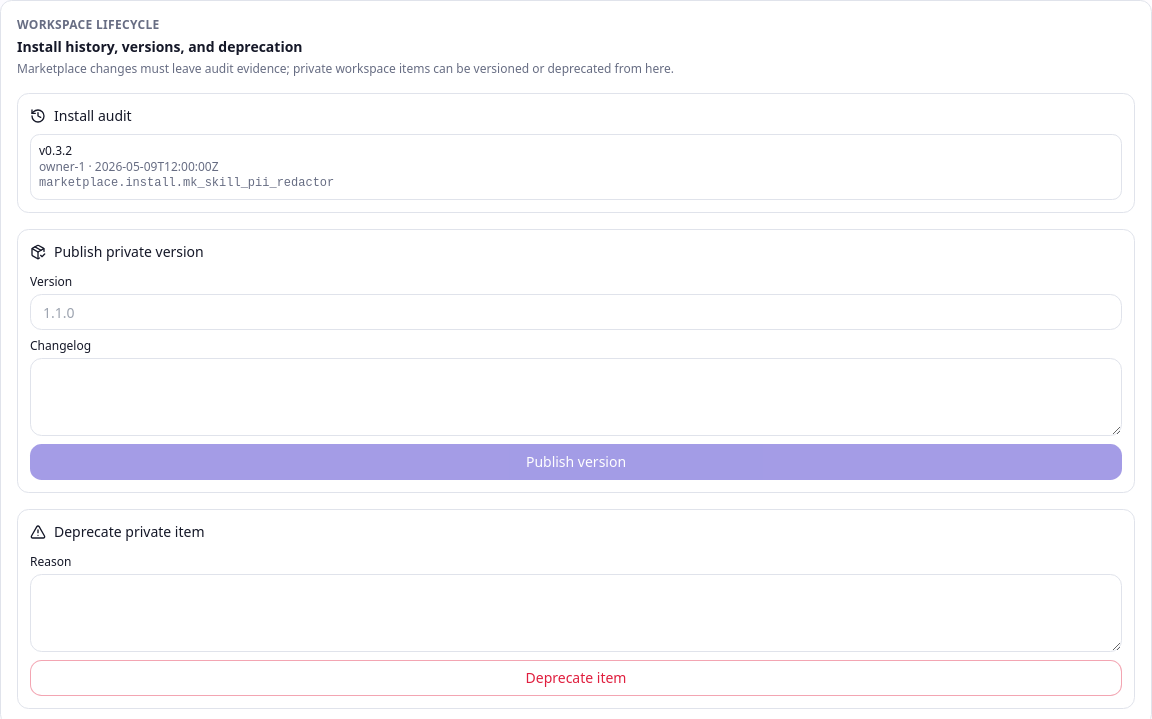
Test case: MarketplaceOperations › loads install audit history and publishes private versions
The width and height of the screenshot is (1152, 719).
Expected: the list with test id "marketplace-installs" shows "marketplace.install.mk_skill_pii_redactor", [39, 176, 334, 190]
Type "0.4.0" into the field with test id "marketplace-version-input" at (576, 312), box [30, 294, 1122, 330]
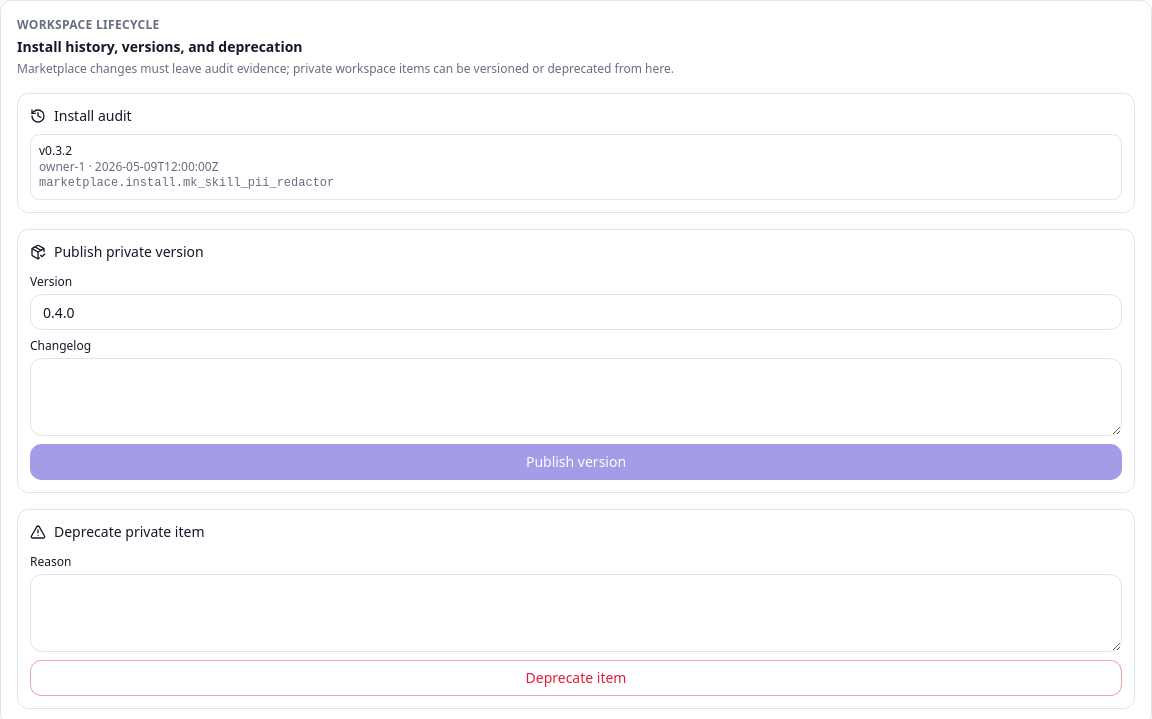
Type "Adds passport redaction coverage." into the text box with test id "marketplace-version-changelog" at (576, 397), box [30, 358, 1122, 436]
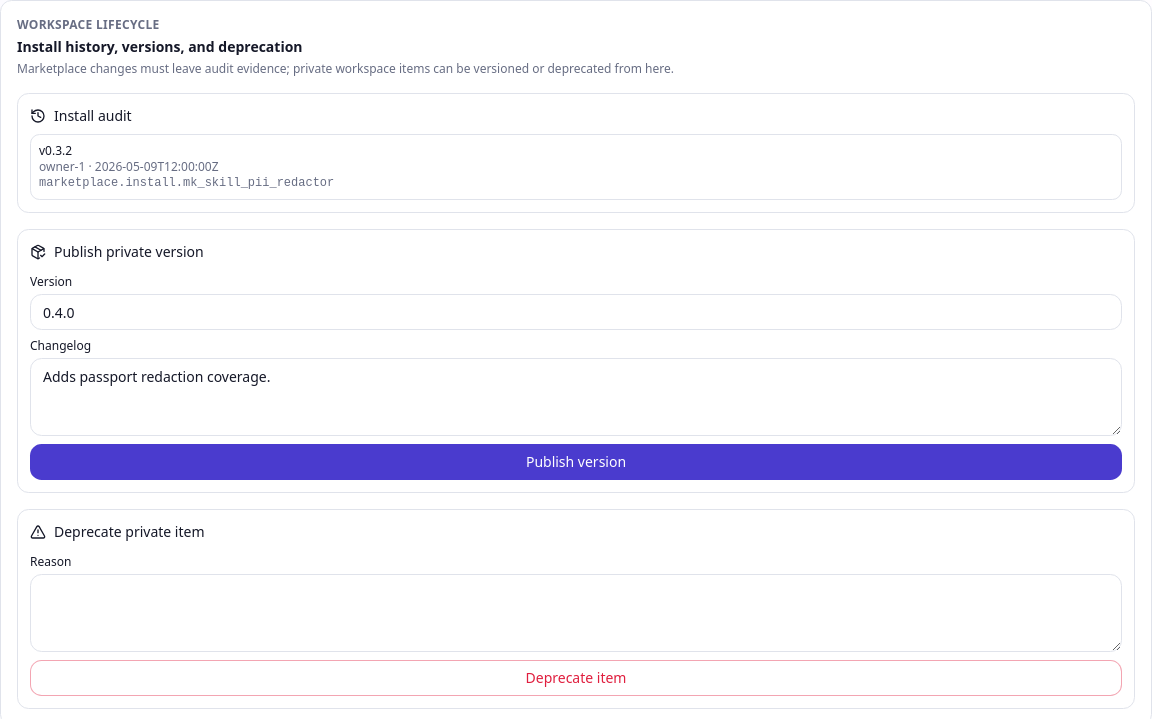
Click the button with test id "marketplace-publish-version" at (576, 462), box [30, 444, 1122, 480]
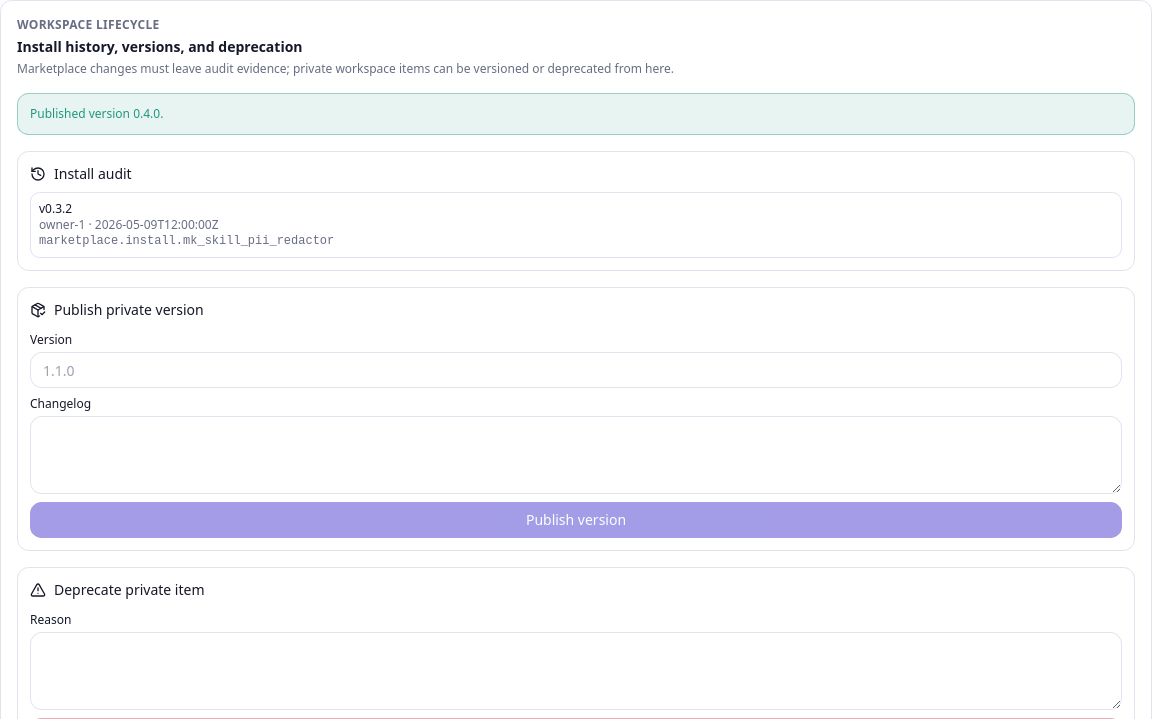
Result: the message with test id "marketplace-operation-status" shows "Published version 0.4.0" at [30, 105, 163, 122]
